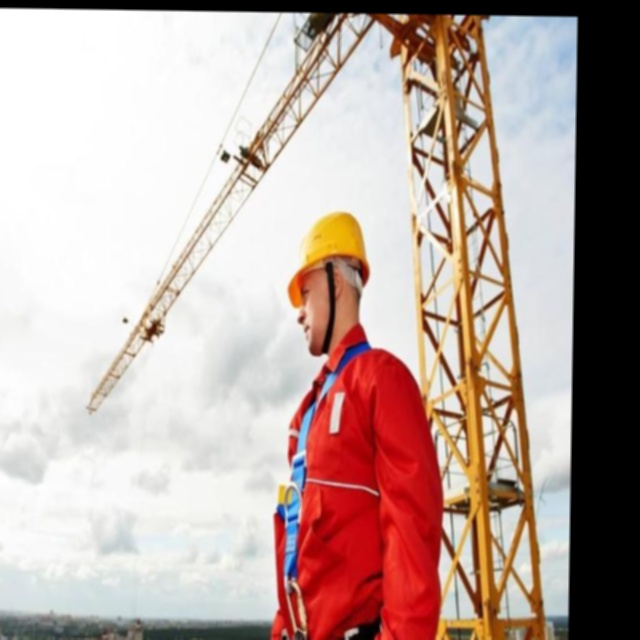Con_Casco: (292, 219, 375, 352)
